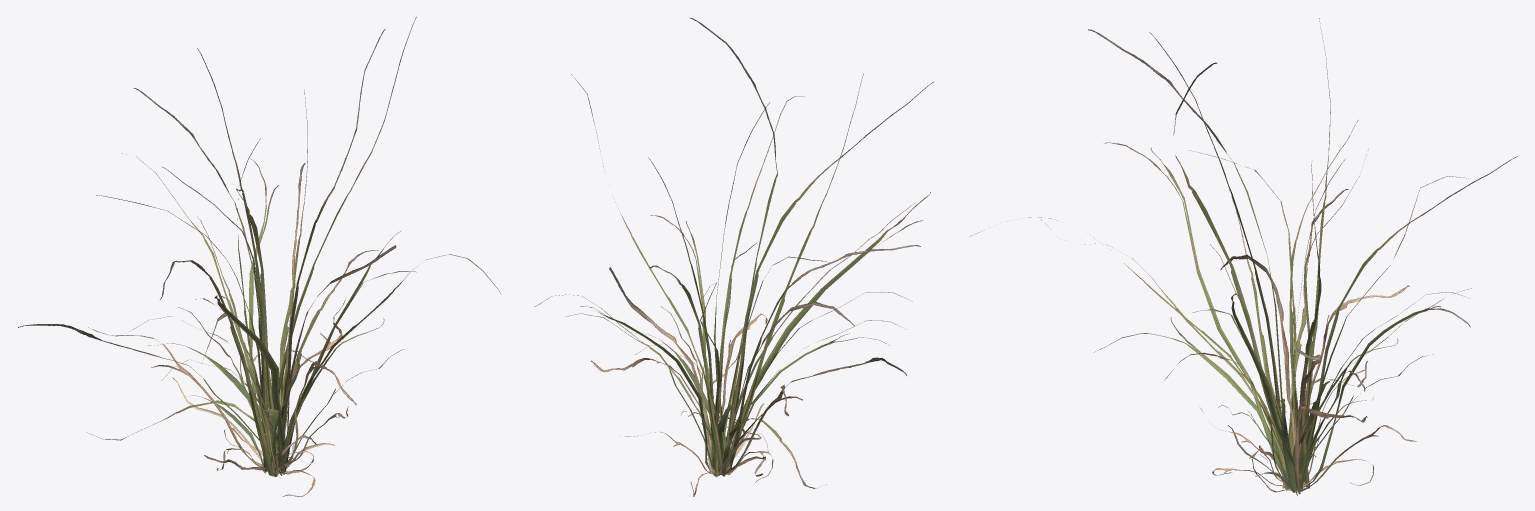
The model's file is grass_medium_02_e.glb.
3 views of the same model, side by side, from view 1: azimuth 30°, elevation 25°; view 2: azimuth 150°, elevation 25°; view 3: azimuth 270°, elevation 25° (orthographic). The views are drawn at different scales.
Parts seen in each view (by area): view 1: grass_medium_02_e__lod0; view 2: grass_medium_02_e__lod0; view 3: grass_medium_02_e__lod0.
Boxes of the visible parts, left/top/right/bottom form: grass_medium_02_e__lod0: left=18, top=17, right=501, bottom=496; grass_medium_02_e__lod0: left=534, top=17, right=933, bottom=496; grass_medium_02_e__lod0: left=970, top=18, right=1517, bottom=495.
Size of the model in its own units: 0.3556 by 0.4032 by 0.4332.
1 material, 1 textured.
